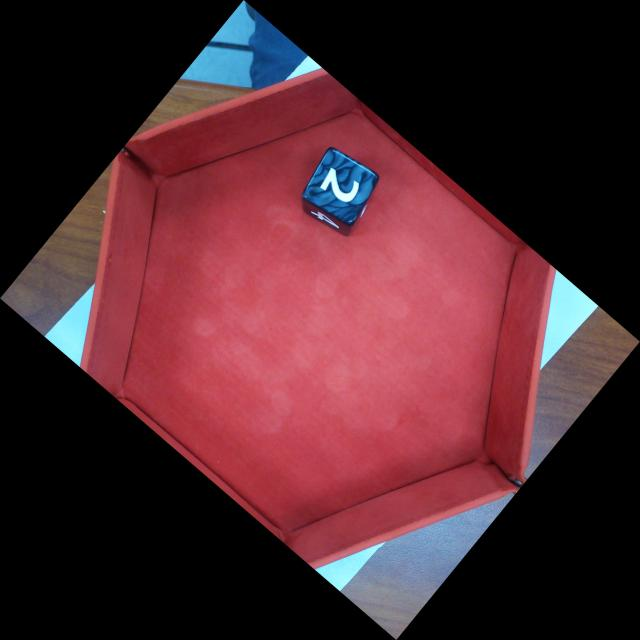dice: (310, 149, 377, 220)
